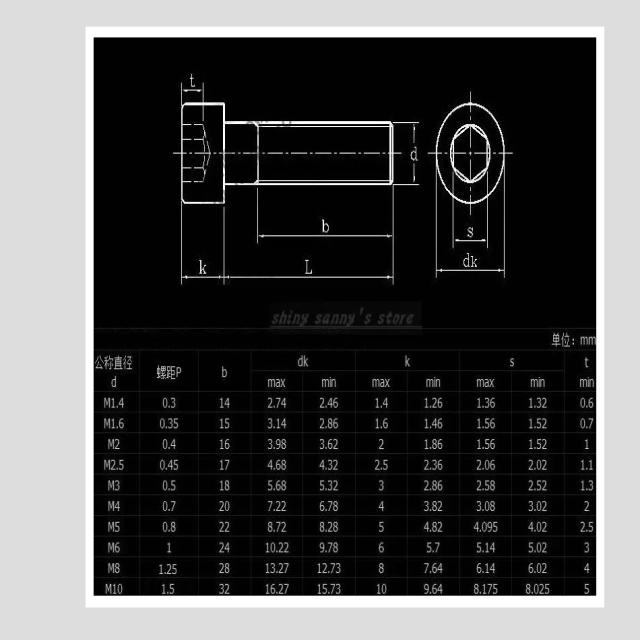marking_line: (179, 205, 395, 284), (226, 187, 399, 285), (255, 187, 398, 243), (434, 205, 506, 279), (180, 205, 226, 288), (394, 121, 419, 187), (452, 205, 488, 249), (180, 83, 205, 102)
numeric: (377, 540, 385, 553), (378, 478, 385, 492), (379, 500, 386, 513), (423, 562, 430, 575), (475, 561, 482, 574), (583, 563, 590, 576), (583, 541, 590, 554), (159, 460, 167, 471), (169, 583, 176, 595), (224, 582, 230, 596), (378, 437, 384, 451), (378, 521, 385, 533), (437, 397, 444, 409), (434, 543, 441, 555), (487, 583, 494, 595), (587, 479, 594, 491), (162, 397, 168, 410), (162, 520, 168, 533), (224, 397, 230, 410), (225, 541, 231, 554), (319, 397, 325, 410), (319, 500, 325, 513), (327, 501, 333, 514), (374, 459, 380, 472), (432, 417, 438, 430), (438, 478, 444, 491), (490, 437, 496, 450), (473, 582, 479, 595), (528, 562, 534, 575), (580, 459, 586, 472), (224, 521, 231, 532), (162, 479, 168, 491), (172, 563, 178, 575), (267, 397, 273, 409), (281, 479, 287, 491), (270, 582, 276, 594), (283, 583, 289, 595), (278, 563, 284, 575), (281, 521, 287, 533), (281, 500, 287, 512), (319, 438, 325, 450), (319, 480, 325, 492), (328, 479, 334, 491), (334, 501, 340, 513), (327, 520, 333, 532), (327, 541, 333, 553), (333, 541, 339, 553), (319, 541, 325, 553), (336, 563, 342, 575), (333, 417, 339, 429), (378, 562, 384, 574), (437, 417, 443, 429), (432, 438, 438, 450), (437, 500, 443, 512), (424, 521, 430, 533), (426, 542, 432, 554), (423, 583, 429, 595), (432, 562, 438, 574), (490, 397, 496, 409), (490, 417, 496, 429), (476, 459, 482, 471), (484, 459, 490, 471), (490, 458, 496, 470), (476, 541, 482, 553), (490, 562, 496, 574), (528, 479, 534, 491), (542, 397, 548, 409), (542, 459, 548, 471), (528, 500, 534, 512), (542, 500, 548, 512), (536, 541, 542, 553), (526, 583, 532, 595), (173, 460, 179, 471), (170, 500, 176, 511), (225, 418, 231, 429), (219, 522, 225, 533), (219, 542, 225, 553), (218, 563, 224, 574), (219, 583, 225, 594), (275, 439, 281, 450), (275, 459, 281, 470), (319, 418, 325, 429), (319, 460, 325, 471), (327, 459, 333, 470), (333, 480, 339, 491), (322, 583, 328, 594), (383, 418, 389, 429), (437, 459, 443, 470), (437, 522, 443, 533), (476, 480, 482, 491), (490, 501, 496, 512), (473, 522, 479, 533), (493, 521, 499, 532), (490, 542, 496, 553), (536, 459, 542, 470), (527, 521, 533, 532), (528, 542, 534, 553), (584, 583, 590, 594), (584, 500, 590, 511), (163, 437, 168, 450), (225, 479, 230, 492), (432, 479, 437, 492), (432, 583, 437, 596), (485, 437, 490, 450), (477, 500, 482, 513), (537, 417, 542, 430), (542, 417, 547, 430), (537, 479, 542, 492), (580, 479, 585, 492), (588, 396, 593, 409), (160, 417, 165, 429), (171, 438, 176, 450), (168, 458, 173, 470), (162, 500, 167, 512), (171, 521, 176, 533), (159, 563, 164, 575), (219, 438, 224, 450), (224, 459, 229, 471), (225, 438, 230, 450), (219, 500, 224, 512), (225, 562, 230, 574), (267, 418, 273, 428), (268, 438, 273, 450), (267, 459, 272, 471), (268, 479, 273, 491), (281, 418, 287, 428), (281, 397, 286, 409), (281, 438, 286, 450), (281, 459, 286, 471), (265, 541, 270, 553), (271, 562, 276, 574), (284, 562, 289, 574), (284, 542, 289, 554), (275, 520, 280, 532), (319, 520, 324, 532), (333, 520, 338, 532), (336, 584, 341, 596), (328, 417, 333, 429), (375, 397, 380, 409), (383, 397, 388, 409), (382, 582, 387, 594), (424, 459, 429, 471), (424, 479, 429, 491), (424, 500, 429, 512), (432, 520, 437, 532), (477, 417, 482, 429), (477, 438, 482, 450), (482, 521, 487, 533), (488, 521, 493, 533), (528, 397, 533, 409), (529, 438, 534, 450), (537, 397, 542, 409), (542, 480, 547, 492), (533, 584, 539, 594), (580, 522, 585, 534), (589, 521, 594, 533), (588, 459, 593, 471), (588, 417, 593, 429), (580, 397, 585, 409), (220, 458, 224, 472), (581, 415, 585, 429), (170, 397, 175, 408), (173, 418, 178, 429), (166, 564, 171, 575), (219, 480, 224, 491), (225, 501, 230, 512), (267, 500, 272, 511), (276, 500, 281, 511), (334, 397, 339, 408), (333, 439, 338, 450), (333, 459, 338, 470), (322, 563, 327, 574), (330, 563, 335, 574), (330, 583, 335, 594), (383, 459, 388, 470), (433, 397, 438, 408), (424, 418, 429, 429), (424, 439, 429, 450), (438, 438, 443, 449), (432, 459, 437, 470), (433, 501, 438, 512), (438, 563, 443, 574), (484, 397, 489, 408), (485, 480, 490, 491), (490, 480, 495, 491), (485, 501, 490, 512), (493, 584, 498, 595), (528, 459, 533, 470), (537, 439, 542, 450), (537, 521, 542, 532), (542, 521, 547, 532), (542, 542, 547, 553), (542, 562, 547, 573), (539, 584, 544, 595), (545, 583, 550, 594), (168, 540, 172, 553), (220, 417, 224, 430), (276, 478, 280, 491), (377, 582, 381, 595), (171, 480, 176, 490), (485, 418, 490, 428), (537, 563, 542, 573), (162, 583, 166, 595), (268, 522, 272, 534), (271, 541, 275, 553), (279, 541, 283, 553), (328, 397, 332, 409), (317, 563, 321, 575), (375, 418, 379, 430), (477, 398, 481, 410), (485, 562, 489, 574), (483, 584, 487, 596), (529, 418, 533, 430), (537, 500, 541, 512), (585, 438, 589, 450), (168, 418, 172, 429), (276, 397, 280, 408), (276, 418, 280, 429), (279, 583, 283, 594), (328, 439, 332, 450), (317, 583, 321, 594), (438, 584, 442, 595), (543, 438, 547, 449), (266, 561, 269, 575), (486, 543, 490, 553), (266, 582, 269, 595), (220, 397, 223, 409), (425, 396, 428, 408)
